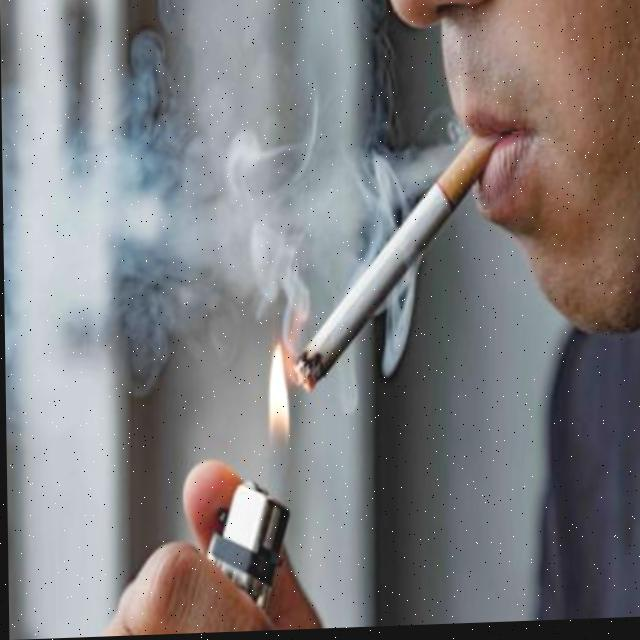cigarette: (291, 137, 498, 395)
